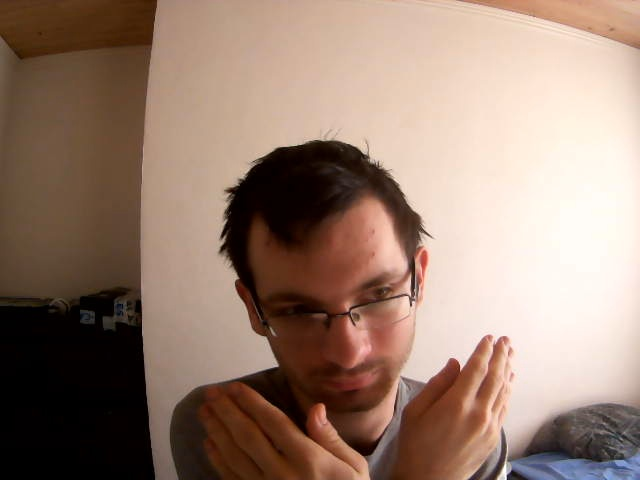butterfly: (194, 331, 515, 477)
